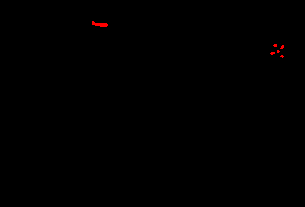Target: (92, 21, 108, 27), (280, 45, 284, 49), (270, 52, 275, 55), (273, 44, 277, 47), (280, 55, 284, 58), (277, 50, 280, 53)
